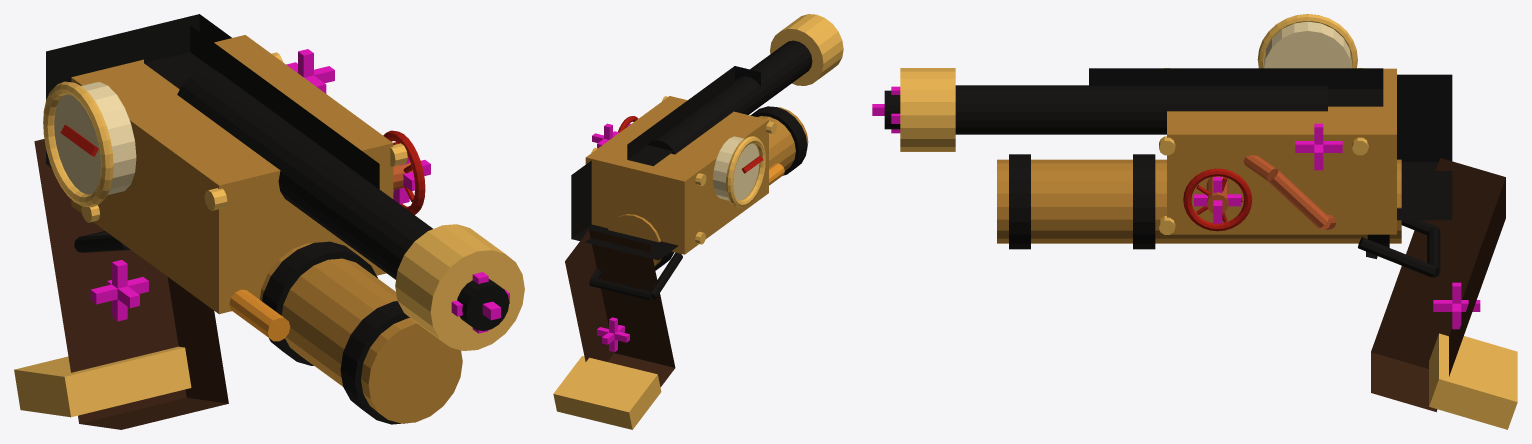
Rendered from WPN_PressurePistol_Viewmodel_Blockout.obj.
The picture shows the model from 3 angles, left to right: view 1: azimuth 30°, elevation 25°; view 2: azimuth 150°, elevation 25°; view 3: azimuth 270°, elevation 25°; orthographic projection. The views are drawn at different scales.
Visible parts, largest first — view 1: BODY_BrassReceiver, GRIP_WalnutAngledGrip, CHAMBER_UnderbarrelPressureCylinder, BARREL_IronBore, BARREL_BrassMuzzleCrown, GRIP_BrassButtPlate, BODY_TopSightRib, GAUGE_LeftCreamFace, BODY_BlackenedRearBlock, GAUGE_LeftBrassRim, CHAMBER_Band_02, CHAMBER_Band_03 (+8 smaller); view 2: BODY_BrassReceiver, GRIP_WalnutAngledGrip, GRIP_BrassButtPlate, BARREL_IronBore, BARREL_BrassMuzzleCrown, BODY_BlackenedRearBlock, BODY_TopSightRib, CHAMBER_UnderbarrelPressureCylinder, GAUGE_LeftCreamFace, GAUGE_LeftBrassRim, CHAMBER_Band_03, SOCKET_Grip_Dominant (+3 smaller); view 3: BODY_BrassReceiver, GRIP_WalnutAngledGrip, BARREL_IronBore, CHAMBER_UnderbarrelPressureCylinder, BODY_BlackenedRearBlock, GRIP_BrassButtPlate, BODY_TopSightRib, BARREL_BrassMuzzleCrown, GAUGE_LeftCreamFace, CHAMBER_Band_02, CHAMBER_Band_03, VALVE_RightWheel_rim (+6 smaller).
Boxes of the visible parts, box(x1,y1,x2,y2) form: BODY_BrassReceiver: box(71, 35, 393, 314); GRIP_WalnutAngledGrip: box(34, 139, 228, 429); CHAMBER_UnderbarrelPressureCylinder: box(259, 243, 462, 423); BARREL_IronBore: box(177, 69, 432, 279); BARREL_BrassMuzzleCrown: box(395, 224, 524, 350); GRIP_BrassButtPlate: box(14, 346, 191, 417); BODY_TopSightRib: box(144, 25, 379, 200); GAUGE_LeftCreamFace: box(54, 82, 136, 194); BODY_BlackenedRearBlock: box(46, 14, 231, 168); GAUGE_LeftBrassRim: box(43, 81, 113, 207); CHAMBER_Band_02: box(262, 241, 377, 365); CHAMBER_Band_03: box(340, 301, 409, 424); BODY_BrassReceiver: box(585, 96, 768, 254); GRIP_WalnutAngledGrip: box(565, 230, 675, 387); GRIP_BrassButtPlate: box(553, 356, 661, 429); BARREL_IronBore: box(648, 40, 812, 154); BARREL_BrassMuzzleCrown: box(770, 14, 843, 85); BODY_BlackenedRearBlock: box(571, 160, 678, 260); BODY_TopSightRib: box(627, 66, 760, 166); CHAMBER_UnderbarrelPressureCylinder: box(608, 107, 808, 266); GAUGE_LeftCreamFace: box(713, 136, 759, 200); GAUGE_LeftBrassRim: box(726, 136, 765, 207); CHAMBER_Band_03: box(750, 106, 807, 175); SOCKET_Grip_Dominant: box(597, 317, 629, 352); BODY_BrassReceiver: box(1167, 68, 1396, 234); GRIP_WalnutAngledGrip: box(1371, 158, 1505, 412); BARREL_IronBore: box(955, 85, 1327, 134); CHAMBER_UnderbarrelPressureCylinder: box(997, 159, 1401, 243); BODY_BlackenedRearBlock: box(1397, 74, 1452, 220); GRIP_BrassButtPlate: box(1429, 333, 1517, 429); BODY_TopSightRib: box(1089, 68, 1383, 106); BARREL_BrassMuzzleCrown: box(900, 68, 955, 151); GAUGE_LeftCreamFace: box(1263, 21, 1351, 68); CHAMBER_Band_02: box(1133, 154, 1155, 249); CHAMBER_Band_03: box(1009, 154, 1030, 249); VALVE_RightWheel_rim: box(1183, 168, 1252, 231).
Bounding box in the file's own units: 0.2935 × 0.406 × 0.7019.
